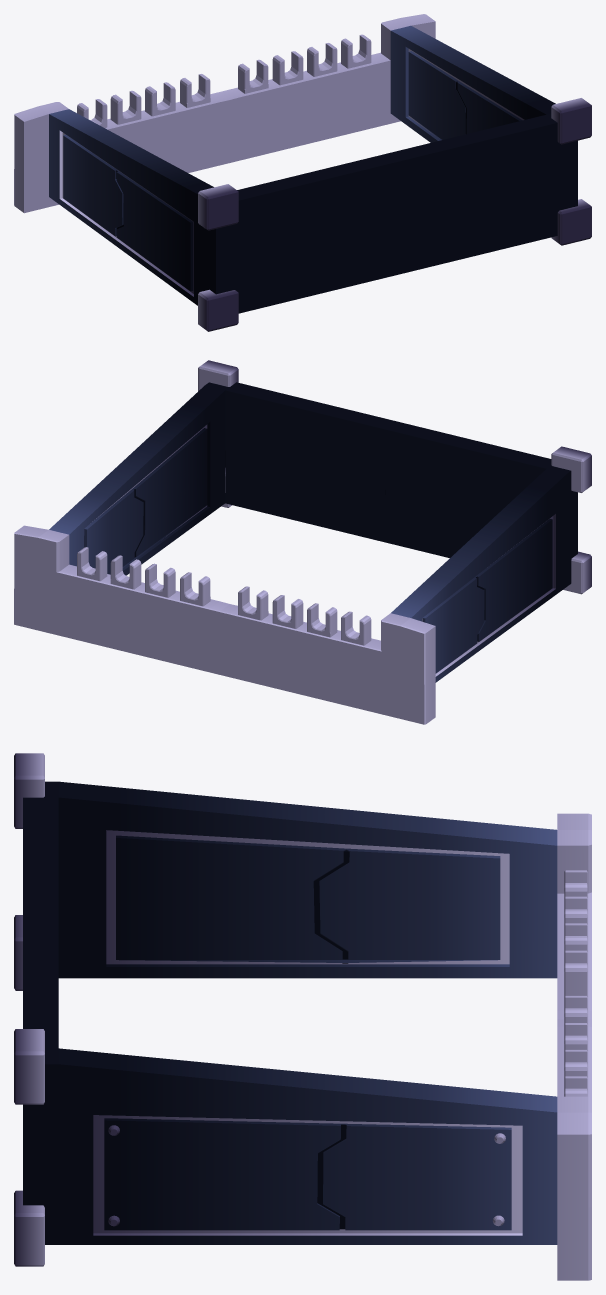
Rendered from Tool_Rack1 (1).fbx.
3 views of the same model, one above another, from view 1: azimuth 30°, elevation 25°; view 2: azimuth 150°, elevation 25°; view 3: azimuth 270°, elevation 25° (orthographic). The views are drawn at different scales.
Parts seen in each view (by area): view 1: Tool Rack Long; view 2: Tool Rack Long; view 3: Tool Rack Long.
Part boxes in pixels (<box>): Tool Rack Long: <box>14,14,591,331</box>; Tool Rack Long: <box>14,360,591,724</box>; Tool Rack Long: <box>14,753,591,1280</box>.
Size of the model in its own units: 107 by 33.89 by 81.44.
Materials: 1 (1 with a texture image).
